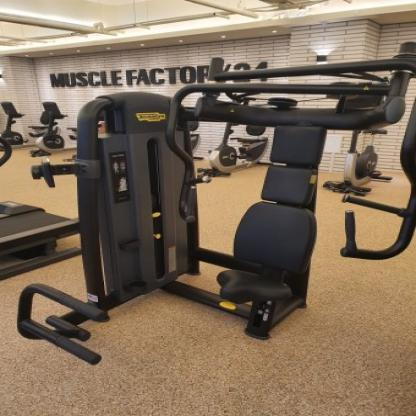Chest Press machine: (14, 38, 416, 403)
